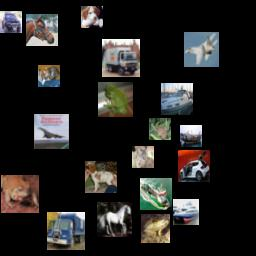airplane: (34, 114, 69, 149), (184, 32, 219, 67)
automobile: (178, 150, 210, 182), (0, 11, 22, 33)
cat: (38, 65, 60, 87), (132, 146, 154, 168)
dog: (85, 161, 117, 193), (81, 6, 103, 28)
frog: (1, 175, 39, 213), (98, 82, 133, 117), (141, 214, 170, 243), (149, 118, 171, 140)
ship: (161, 83, 193, 115), (140, 178, 172, 210), (173, 199, 199, 225), (180, 125, 202, 147)
truck: (102, 39, 140, 77), (47, 212, 85, 250)
